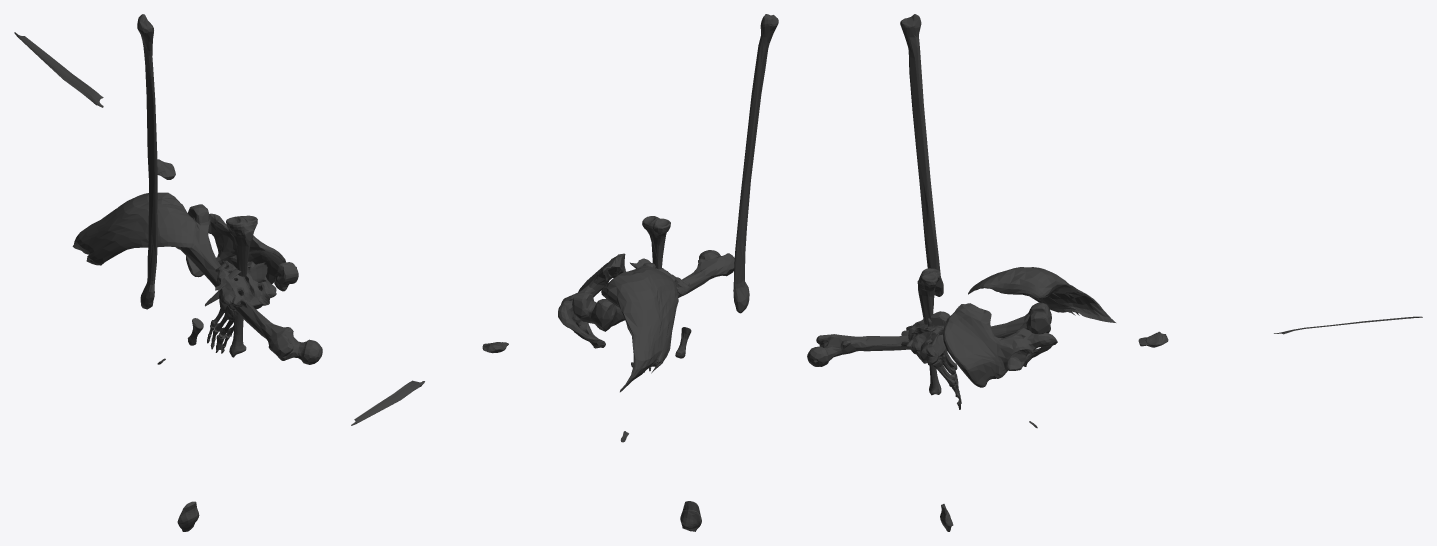
Rendered from sharedassets27.glb.
3 renders of one model, left to right at view 1: azimuth 30°, elevation 25°; view 2: azimuth 150°, elevation 25°; view 3: azimuth 270°, elevation 25°, orthographic. The views are drawn at different scales.
Parts seen in each view (by area): view 1: 0006_Gluteus maximus, R__1000191, 0007_Femur _thigh_, R__000930, 0036_Fibula _leg_, R__000928, 0039_S01-05 Sacrum__001242, 0035_Tibia _leg_, R__000925, 0075_Fibula _leg_, L__000922, 0076_Femur _thigh_, L_male_000854, 0037_Interosseous membrane of the leg _middle, 0043_Ilium, R__001012, 0074_Tibia _leg_, L__000923, 0019_Talus, R__000940, 0008_Patella _knee cap_ and patellar ligament (+3 smaller); view 2: 0006_Gluteus maximus, R__1000191, 0007_Femur _thigh_, R__000930, 0075_Fibula _leg_, L__000922, 0036_Fibula _leg_, R__000928, 0076_Femur _thigh_, L_male_000854, 0037_Interosseous membrane of the leg _middle, 0080_Ilium, L_male_001003, 0035_Tibia _leg_, R__000925, 0074_Tibia _leg_, L__000923, 0008_Patella _knee cap_ and patellar ligament; view 3: 0006_Gluteus maximus, R__1000191, 0080_Ilium, L_male_001003, 0036_Fibula _leg_, R__000928, 0043_Ilium, R__001012, 0007_Femur _thigh_, R__000930, 0075_Fibula _leg_, L__000922, 0076_Femur _thigh_, L_male_000854, 0039_S01-05 Sacrum__001242.
Part boxes in pixels (bbox=[...]): 0006_Gluteus maximus, R__1000191: bbox=[72, 192, 196, 265]; 0007_Femur _thigh_, R__000930: bbox=[178, 204, 322, 364]; 0036_Fibula _leg_, R__000928: bbox=[138, 15, 157, 309]; 0039_S01-05 Sacrum__001242: bbox=[215, 260, 276, 309]; 0035_Tibia _leg_, R__000925: bbox=[226, 216, 257, 354]; 0075_Fibula _leg_, L__000922: bbox=[137, 14, 157, 307]; 0076_Femur _thigh_, L_male_000854: bbox=[175, 208, 322, 362]; 0037_Interosseous membrane of the leg _middle: bbox=[14, 32, 103, 107]; 0043_Ilium, R__001012: bbox=[225, 229, 285, 283]; 0074_Tibia _leg_, L__000923: bbox=[226, 215, 257, 357]; 0019_Talus, R__000940: bbox=[274, 262, 298, 291]; 0008_Patella _knee cap_ and patellar ligament: bbox=[177, 501, 199, 531]; 0006_Gluteus maximus, R__1000191: bbox=[601, 265, 678, 392]; 0007_Femur _thigh_, R__000930: bbox=[572, 250, 734, 331]; 0075_Fibula _leg_, L__000922: bbox=[735, 14, 778, 305]; 0036_Fibula _leg_, R__000928: bbox=[733, 23, 778, 313]; 0076_Femur _thigh_, L_male_000854: bbox=[586, 252, 734, 330]; 0037_Interosseous membrane of the leg _middle: bbox=[351, 380, 424, 425]; 0080_Ilium, L_male_001003: bbox=[572, 254, 623, 319]; 0035_Tibia _leg_, R__000925: bbox=[642, 217, 670, 269]; 0074_Tibia _leg_, L__000923: bbox=[642, 216, 670, 269]; 0008_Patella _knee cap_ and patellar ligament: bbox=[680, 501, 701, 531]; 0006_Gluteus maximus, R__1000191: bbox=[968, 267, 1115, 322]; 0080_Ilium, L_male_001003: bbox=[946, 303, 1014, 387]; 0036_Fibula _leg_, R__000928: bbox=[900, 16, 943, 296]; 0043_Ilium, R__001012: bbox=[943, 303, 1014, 387]; 0007_Femur _thigh_, R__000930: bbox=[807, 302, 1051, 366]; 0075_Fibula _leg_, L__000922: bbox=[900, 14, 939, 295]; 0076_Femur _thigh_, L_male_000854: bbox=[809, 304, 1045, 366]; 0039_S01-05 Sacrum__001242: bbox=[901, 319, 944, 354].
Bounding box in the file's own units: 0.1862 × 0.5467 × 0.6236.
Materials: 1 (1 with a texture image).
